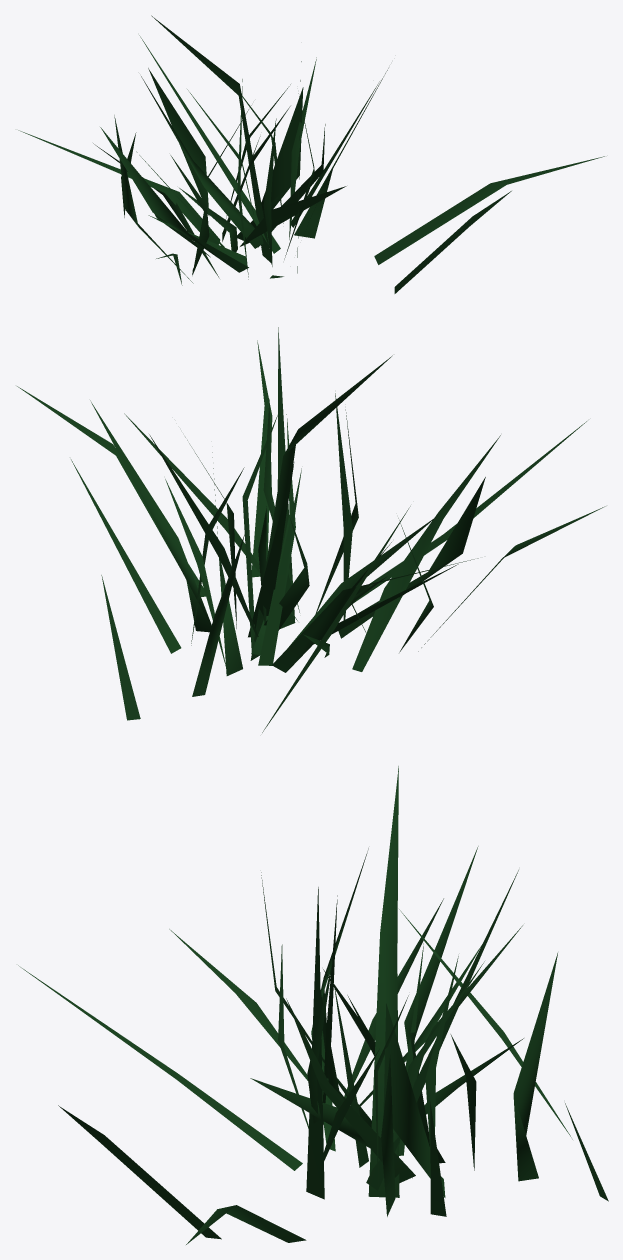
Rendered from Grass 5.fbx.
The picture shows the model from 3 angles, top to bottom: view 1: azimuth 30°, elevation 25°; view 2: azimuth 150°, elevation 25°; view 3: azimuth 270°, elevation 25°; orthographic projection. The views are drawn at different scales.
Parts seen in each view (by area): view 1: Grass 5; view 2: Grass 5; view 3: Grass 5.
Boxes of the visible parts, left/top/right/bottom form: Grass 5: left=18, top=15, right=604, bottom=293; Grass 5: left=17, top=327, right=605, bottom=732; Grass 5: left=18, top=766, right=608, bottom=1244.
Bounding box in the file's own units: 109 × 57.94 × 86.76.
